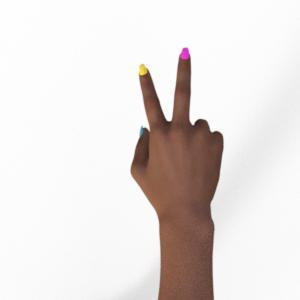scissors: (131, 48, 223, 300)
